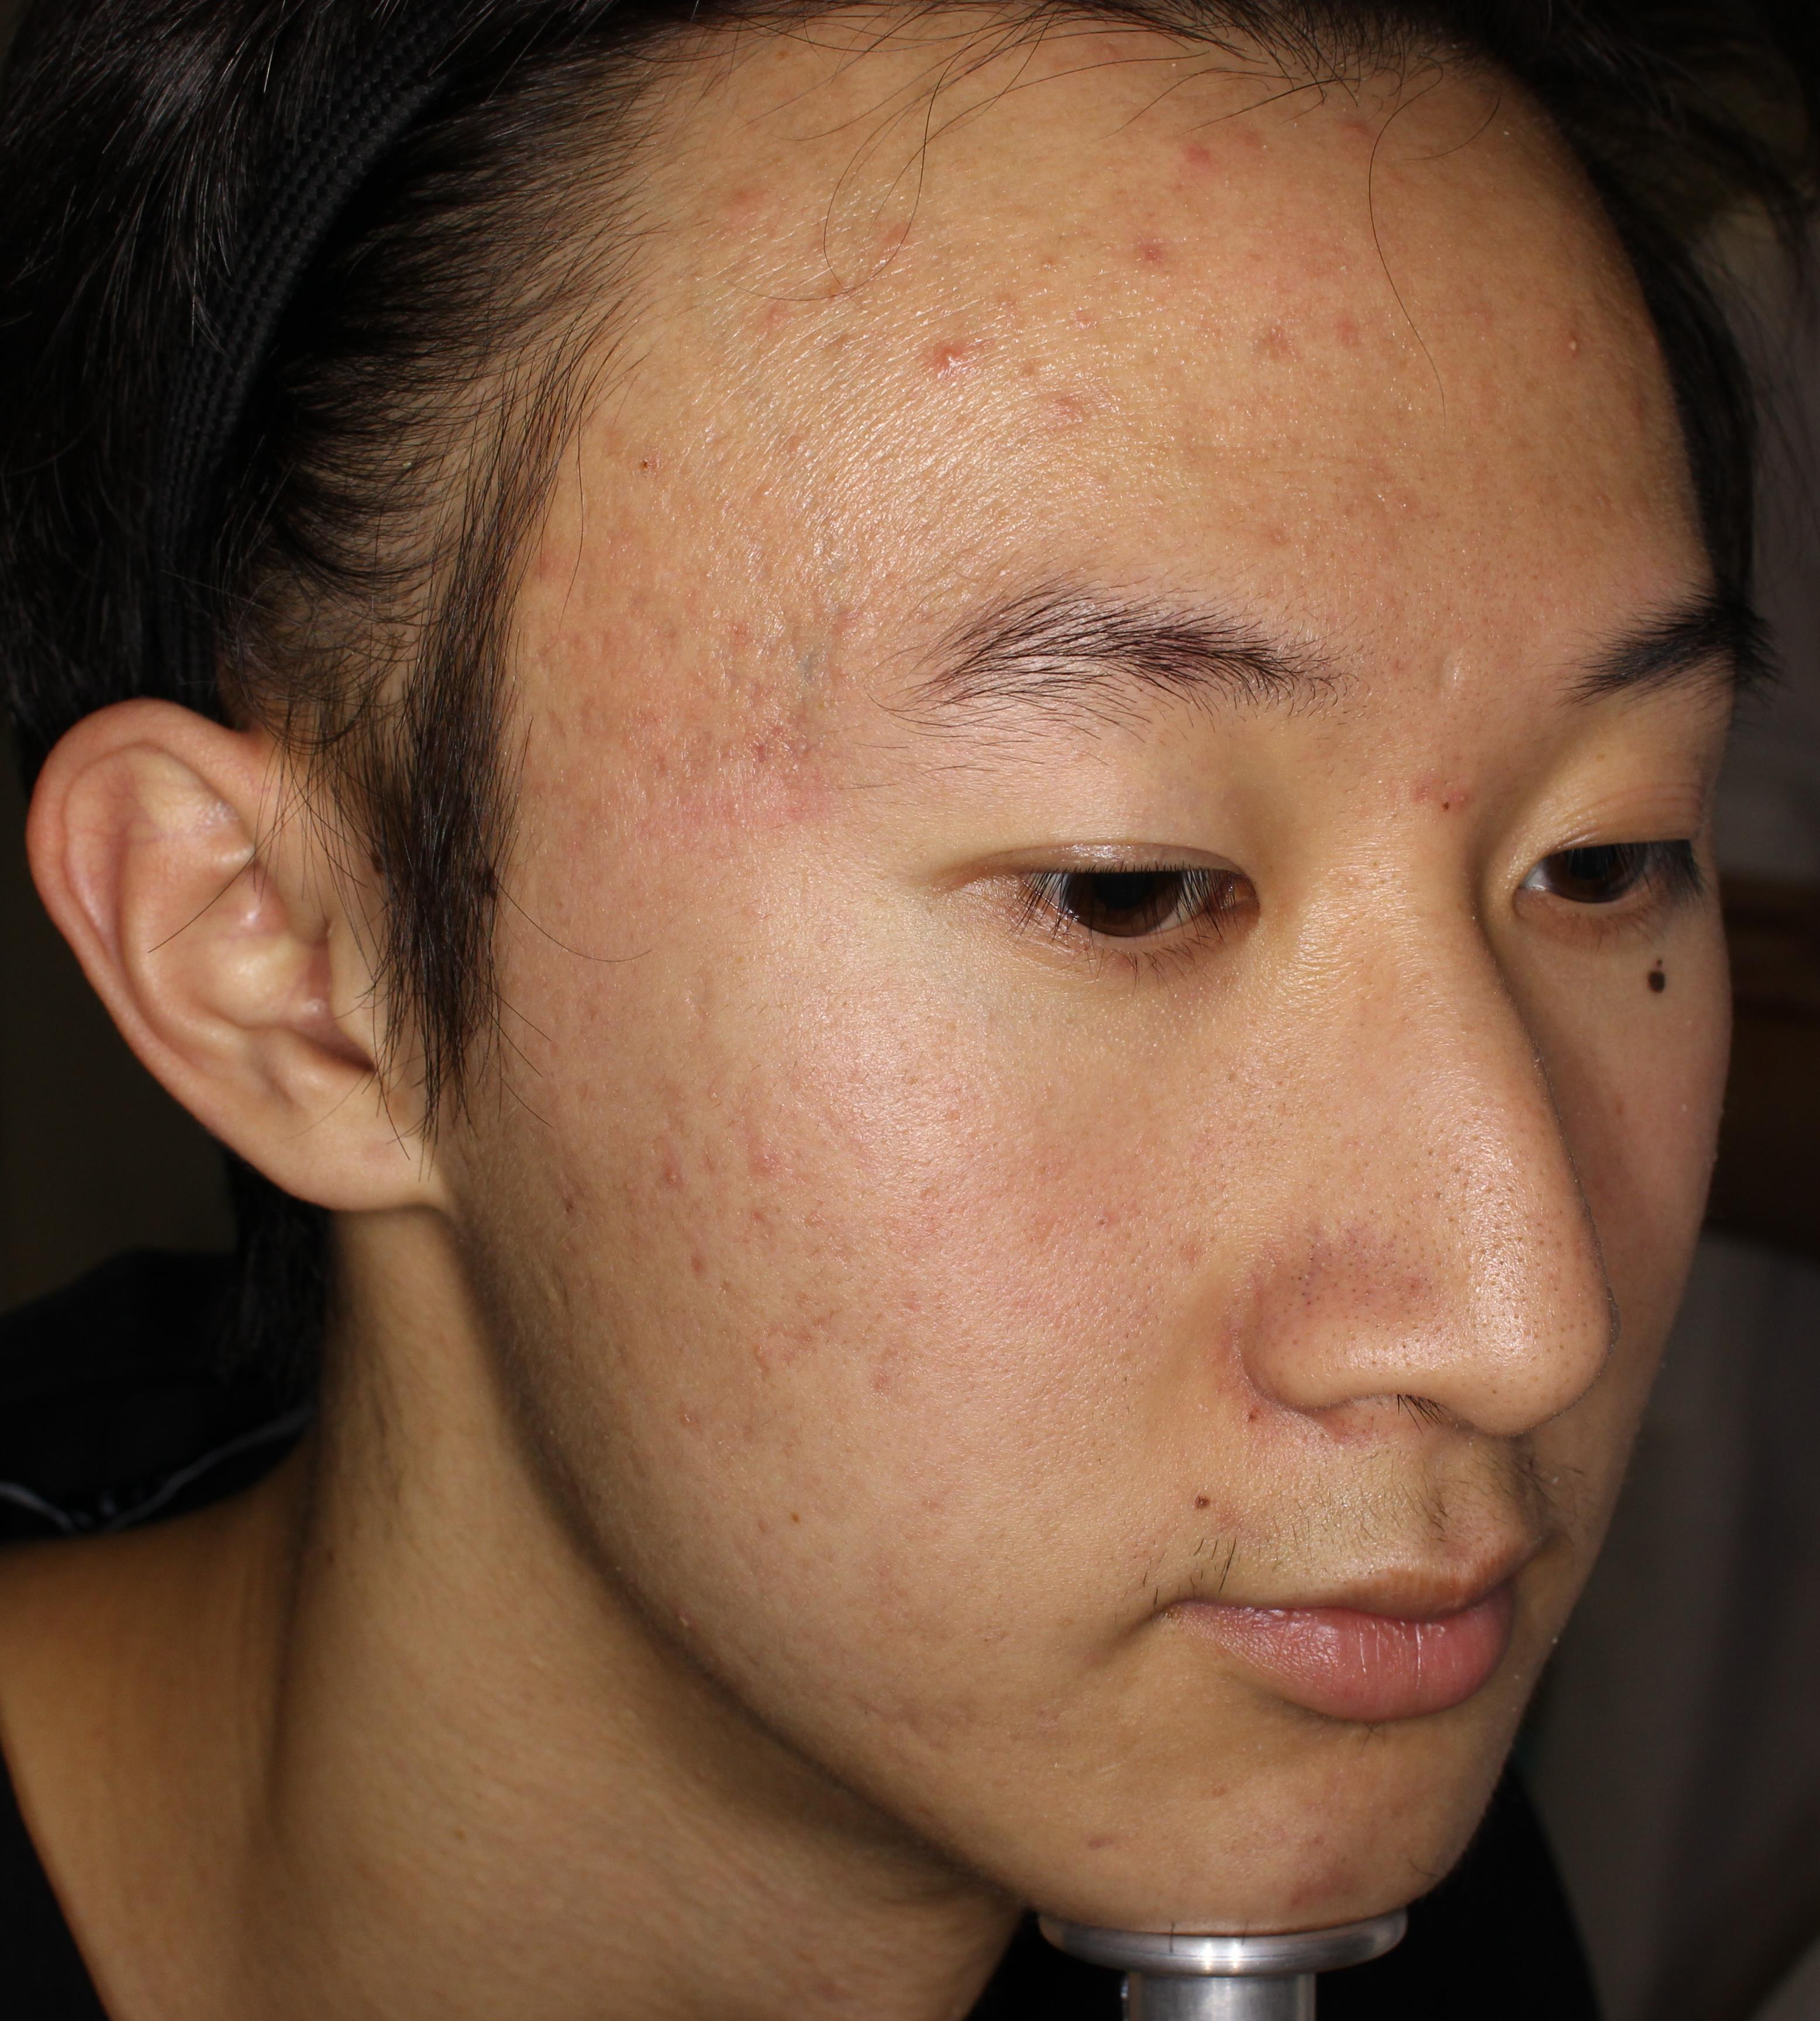fore: (1409, 752, 1490, 867), (1094, 223, 1198, 307), (884, 327, 996, 393), (713, 156, 776, 258), (1340, 116, 1395, 186), (875, 214, 929, 281), (1228, 116, 1279, 186), (1166, 146, 1224, 183)
